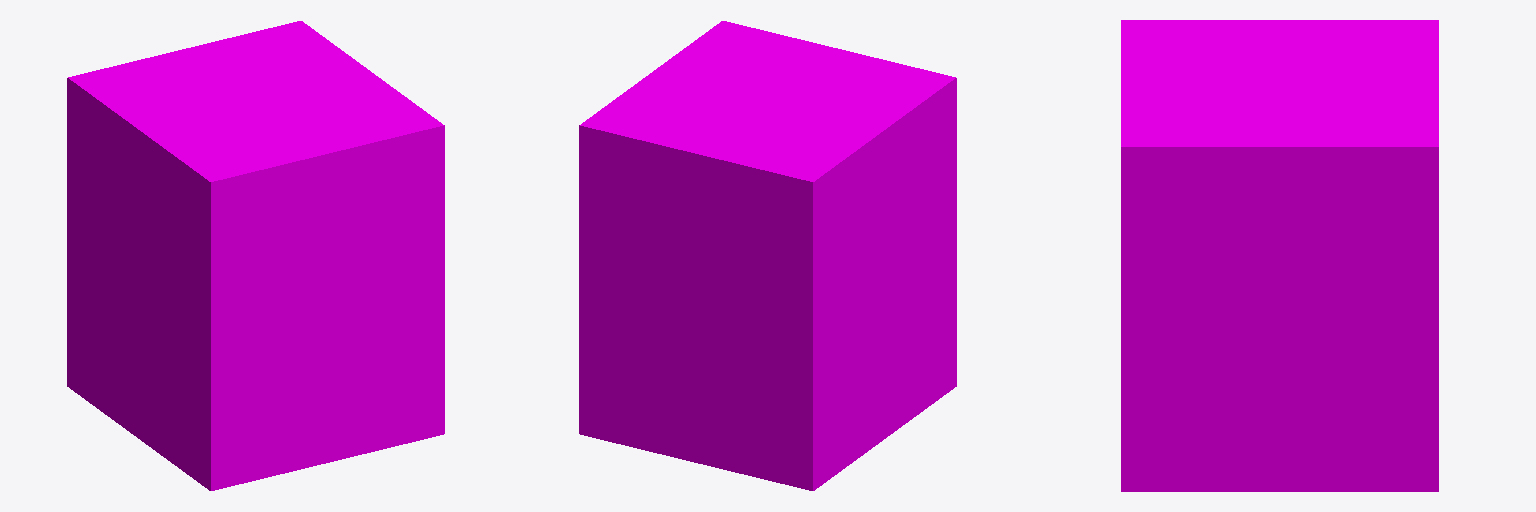
robot.urdf — purpleblock.urdf:
<?xml version="0.0" ?>
<robot name="purpleblock.urdf">
  <link name="baseLink">
    <contact>
      <friction_anchor/>
      <lateral_friction value="1"/>
    </contact>
    <inertial>
      <origin rpy="0 0 0" xyz="0 0 0"/>
       <mass value="1.1283101"/>
       <inertia ixx="1" ixy="0" ixz="0" iyy="1" iyz="0" izz="1"/>
    </inertial>
    <visual>
      <origin rpy="0 0 0" xyz="0 0 0"/>
      <geometry>
        <mesh filename="purpleblock_new.obj" scale="1 1 1"/>
      </geometry>
       <material name="purple">
        <color rgba="1 0 1 1"/>
      </material>
    </visual>
    <collision>
      <origin rpy="0 0 0" xyz="0 0 0"/>
      <geometry>
        <mesh filename="purpleblock_new.obj" scale="1 1 1"/>
      </geometry>
    </collision>
  </link>
</robot>

--- Render facts (derived) ---
Views: 3 orthographic renders of the robot side by side, from view 1: azimuth 30°, elevation 25°; view 2: azimuth 150°, elevation 25°; view 3: azimuth 270°, elevation 25°.
Model purpleblock.urdf with 1 links and 0 joints (none), rooted at baseLink, posed all joints at 0.
Links seen in each view (by area): view 1: baseLink; view 2: baseLink; view 3: baseLink.
Boxes of the visible links, bbox=[...] form: baseLink: bbox=[67, 21, 444, 490]; baseLink: bbox=[579, 21, 956, 490]; baseLink: bbox=[1121, 20, 1438, 491].
Bounding box of the posed robot: 0.095 × 0.1008 × 0.12 m (x, y, z).
1 mesh visuals loaded from 1 distinct referenced files (1 OBJ).